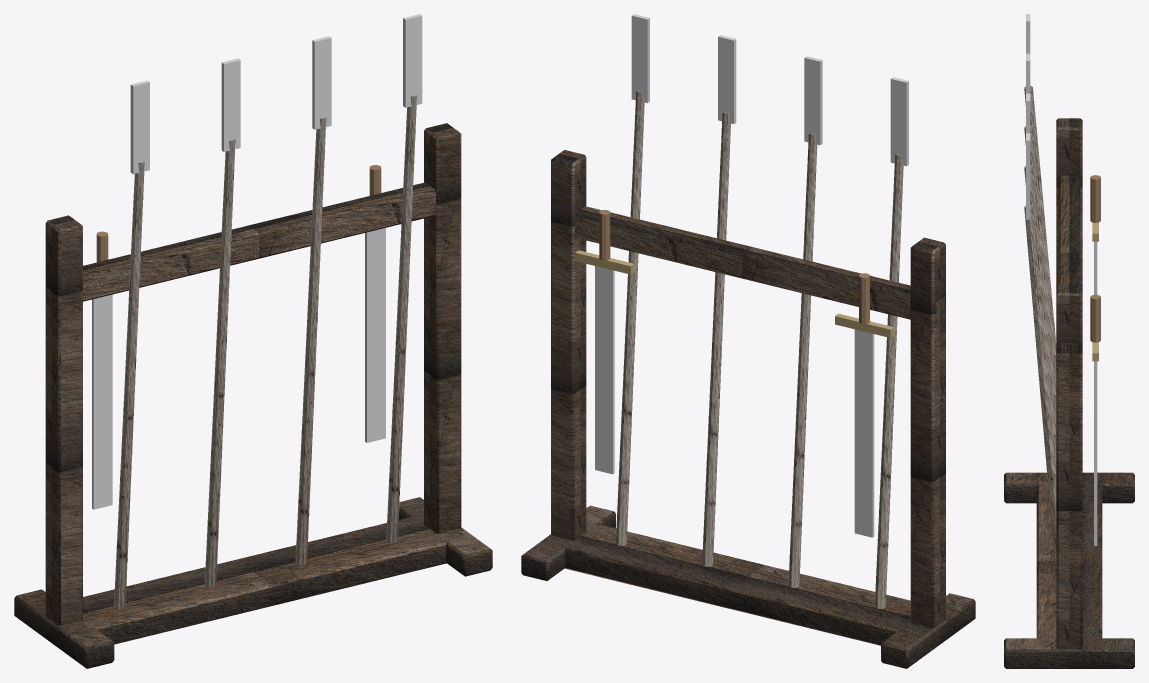
The model's file is weapon-rack-v02.glb.
3 renders of one model, left to right at view 1: azimuth 30°, elevation 25°; view 2: azimuth 150°, elevation 25°; view 3: azimuth 270°, elevation 25°, orthographic. The views are drawn at different scales.
Parts seen in each view (by area): view 1: weapon-rack; view 2: weapon-rack; view 3: weapon-rack.
Part boxes in pixels (x1,y1,x2,y2): weapon-rack: [14, 14, 492, 668]; weapon-rack: [521, 14, 975, 668]; weapon-rack: [1004, 14, 1134, 668].
Size of the model in its own units: 1.94 by 2.55 by 0.6.
5 materials, 2 textured.
